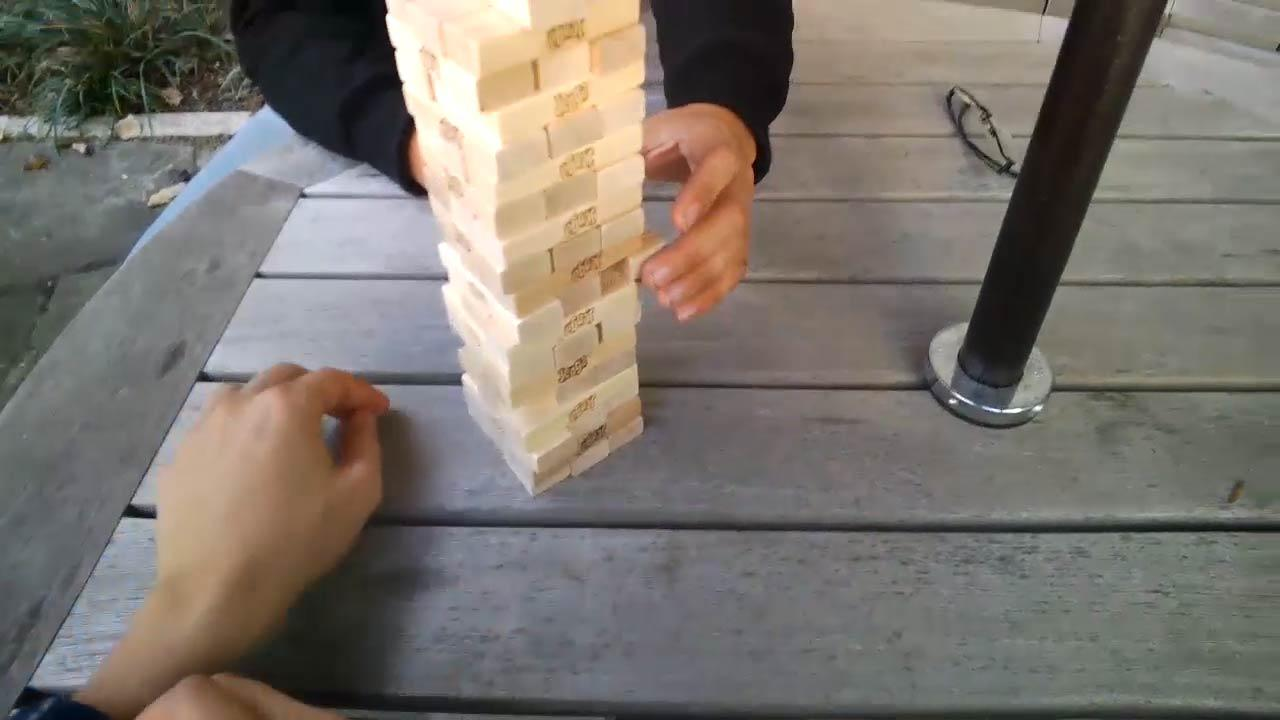hand: (156, 364, 389, 638), (639, 99, 754, 322)
